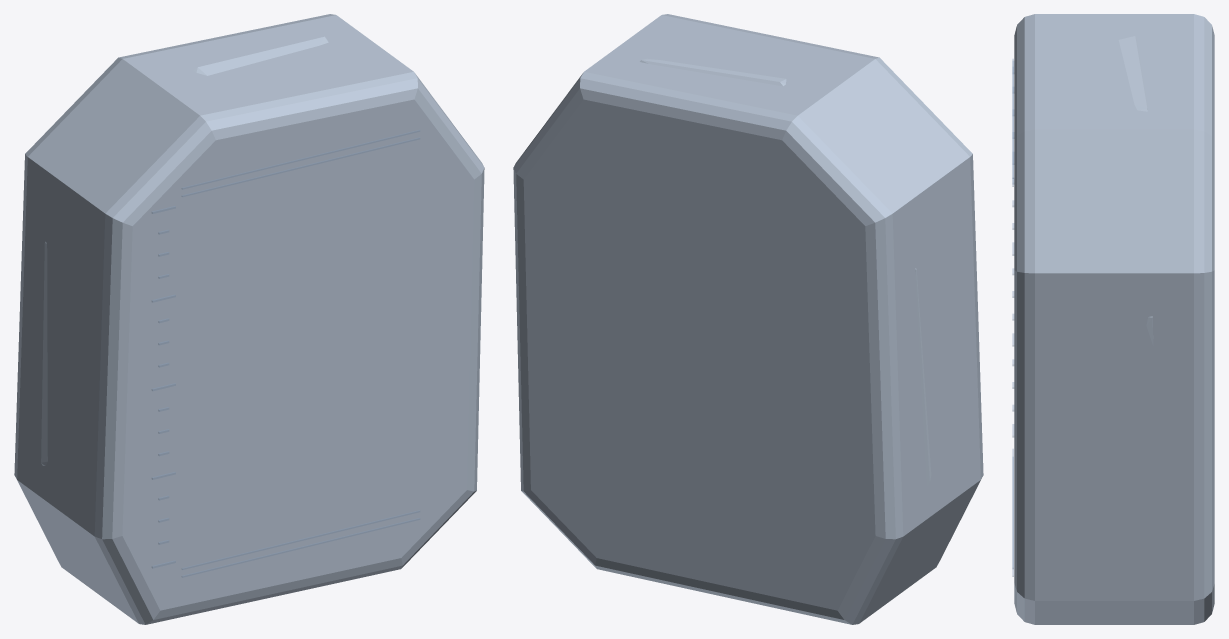
The model's file is frost-ledger.glb.
3 views of the same model, side by side, from view 1: azimuth 30°, elevation 25°; view 2: azimuth 150°, elevation 25°; view 3: azimuth 270°, elevation 25° (orthographic). The views are drawn at different scales.
Visible parts, largest first — view 1: IceShell, RimFacet_2, RimFacet_0; view 2: IceShell, RimFacet_2, RimFacet_0; view 3: IceShell, RimFacet_2.
Part boxes in pixels (x1,y1,x2,y2): IceShell: (14,14,484,624); RimFacet_2: (193,37,328,75); RimFacet_0: (41,242,47,465); IceShell: (513,14,983,624); RimFacet_2: (640,59,785,85); RimFacet_0: (915,268,930,485); IceShell: (1014,14,1214,624); RimFacet_2: (1119,36,1147,111).
Bounding box in the file's own units: 2.66 × 3.28 × 1.17.
